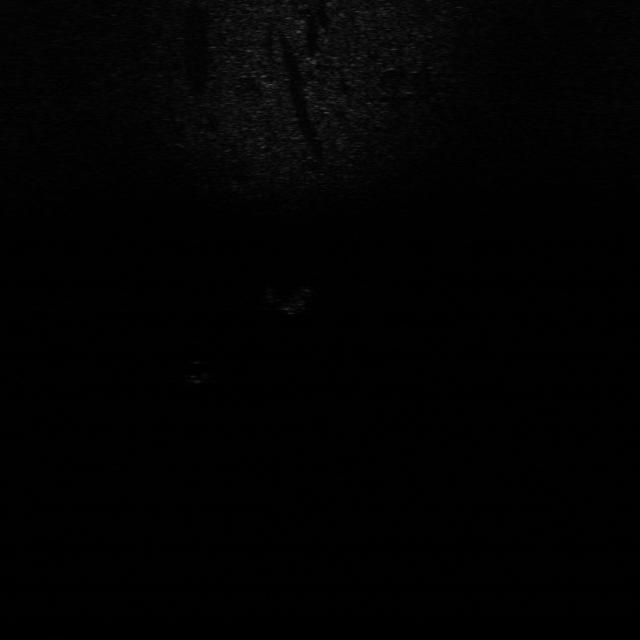ball: (178, 358, 214, 385)
human body: (257, 284, 318, 318)
